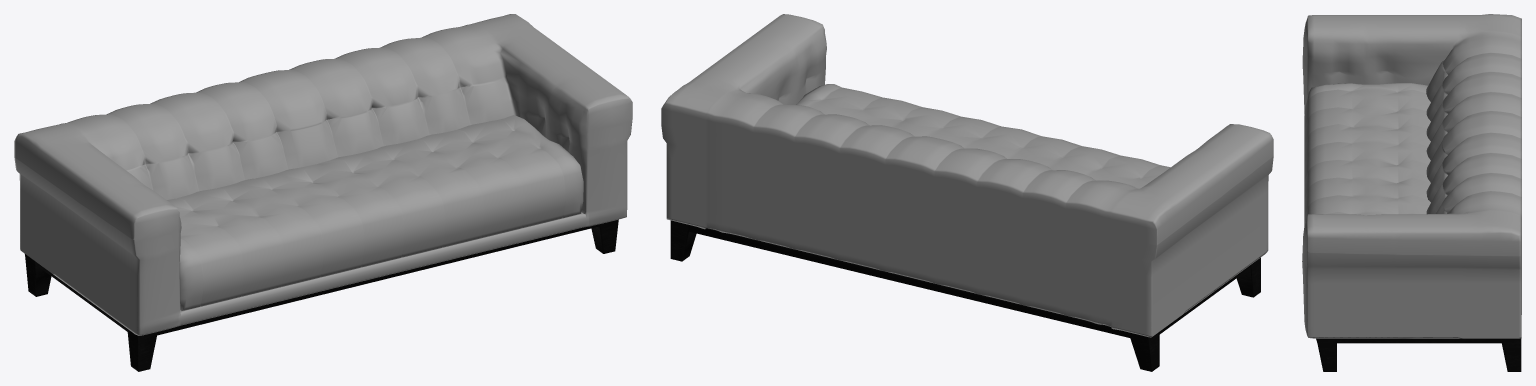
Rendered from sofa2.glb.
3 views of the same model, side by side, from view 1: azimuth 30°, elevation 25°; view 2: azimuth 150°, elevation 25°; view 3: azimuth 270°, elevation 25° (orthographic). The views are drawn at different scales.
Parts seen in each view (by area): view 1: fabric_90037207, wood_90037207; view 2: fabric_90037207, wood_90037207; view 3: fabric_90037207, wood_90037207.
Part boxes in pixels (box(x1,y1,x2,y2)): fabric_90037207: box(14, 14, 632, 335); wood_90037207: box(25, 219, 618, 371); fabric_90037207: box(661, 14, 1273, 337); wood_90037207: box(670, 220, 1260, 371); fabric_90037207: box(1302, 14, 1521, 338); wood_90037207: box(1316, 338, 1521, 371).
Size of the model in its own units: 238 by 74.1 by 101.
2 materials, 2 textured.
